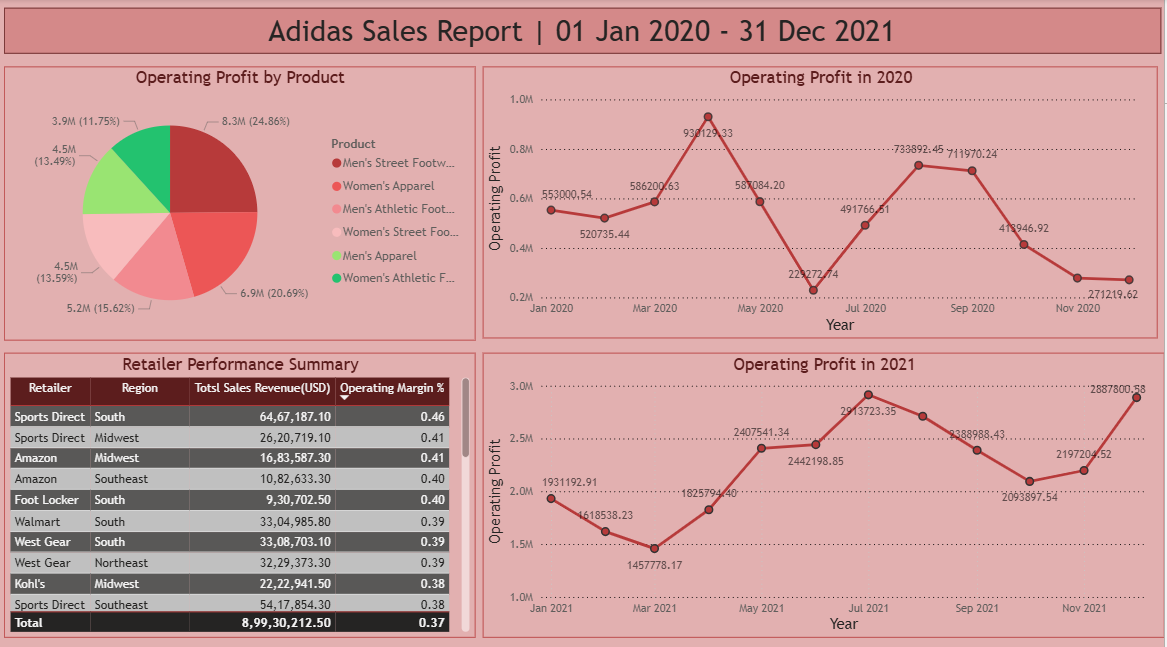

The page's visual inventory and layout, read from the dashboard file:
{"tool":"powerbi","page":{"name":"Adidas Sales Analytics 2","canvas":[1280,720],"ordinal":1},"visuals":[{"type":"card","fields":{"Values":["Table 1 (Sheet1).Dashboard Title"]},"box":[5.5,9.6,1270,50],"z":0},{"type":"pieChart","title":"Operating Profit by Product","fields":{"Y":["Sum(Table 1 (Sheet1).Operating Profit)"],"Category":["Table 1 (Sheet1).Product"]},"box":[5.5,74.1,517.3,300.5],"z":1000},{"type":"tableEx","title":"Retailer Performance Summary","fields":{"Values":["Table 1 (Sheet1).Retailer","Table 1 (Sheet1).Region","Table 1 (Sheet1).Totsl Sales Revenue(USD)","Table 1 (Sheet1).Operating Margin %"]},"box":[5.5,388.3,517.3,312.9],"z":2000},{"type":"lineChart","title":"Operating Profit in 2021","fields":{"Y":["Sum(Table 1 (Sheet1).Operating Profit)"],"Category":["Table 1 (Sheet1).Invoice Date.Variation.Date Hierarchy.Year","Table 1 (Sheet1).Invoice Date.Variation.Date Hierarchy.Month"]},"box":[530.8,388.3,749.2,312.9],"z":3000},{"type":"lineChart","title":"Operating Profit in 2020","fields":{"Y":["Sum(Table 1 (Sheet1).Operating Profit)"],"Category":["Table 1 (Sheet1).Invoice Date.Variation.Date Hierarchy.Year","Table 1 (Sheet1).Invoice Date.Variation.Date Hierarchy.Month"]},"box":[530.7,74.6,741,298.4],"z":4000}]}

Visuals, with their boxes in screenshot pixels (x1, y1, x2, y2), scaled from the page's 1280x720 canvas onto the 1167x647 screenshot:
card - Table 1 (Sheet1).Dashboard Title: crop(5, 9, 1163, 54)
"Operating Profit by Product" pieChart: crop(5, 67, 477, 337)
"Retailer Performance Summary" tableEx: crop(5, 349, 477, 630)
"Operating Profit in 2021" lineChart: crop(484, 349, 1166, 630)
"Operating Profit in 2020" lineChart: crop(484, 67, 1159, 335)
